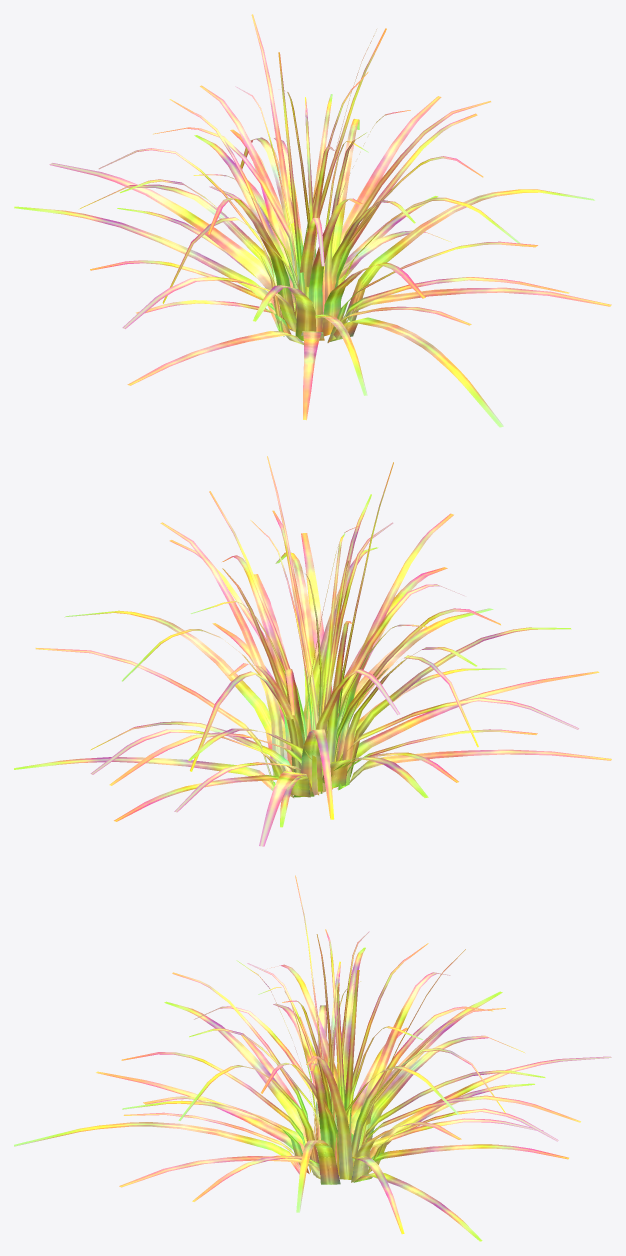
The model's file is pennisetum_SM.fbx.
The picture shows the model from 3 angles, top to bottom: view 1: azimuth 30°, elevation 25°; view 2: azimuth 150°, elevation 25°; view 3: azimuth 270°, elevation 25°; orthographic projection. The views are drawn at different scales.
Visible parts, largest first — view 1: pennisetum_SM_LOD0; view 2: pennisetum_SM_LOD0; view 3: pennisetum_SM_LOD0.
Part boxes in pixels (left/top/right/bottom): pennisetum_SM_LOD0: left=14, top=14, right=611, bottom=427; pennisetum_SM_LOD0: left=14, top=456, right=611, bottom=846; pennisetum_SM_LOD0: left=14, top=875, right=611, bottom=1241.
Bounding box in the file's own units: 344 × 403 × 203.
1 material, 1 textured.
